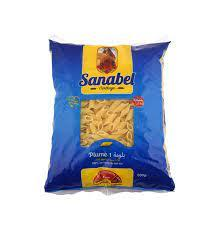plume: (45, 37, 176, 192)
